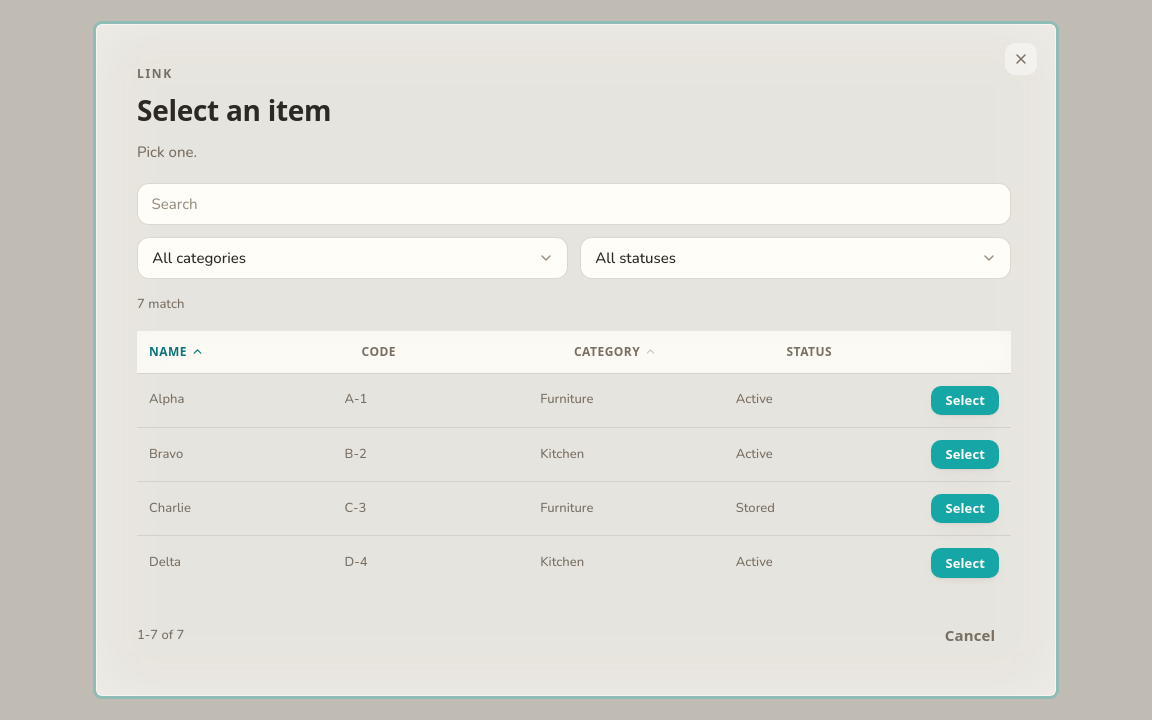
Test: EntitySelectorDialog › sorts when a sortable header is toggled
Step 1. Click the button "Name" → (176, 352), box 149,343 -> 204,361
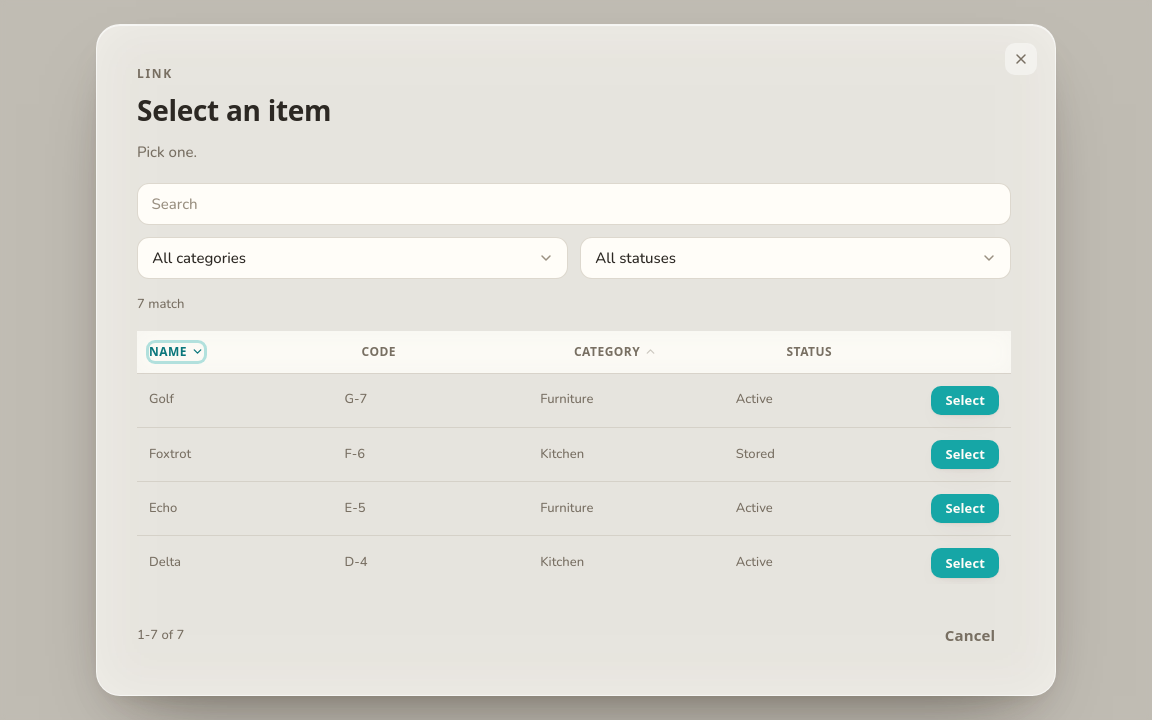
Expected: the cell "Golf" is shown, 149,390 -> 174,408
